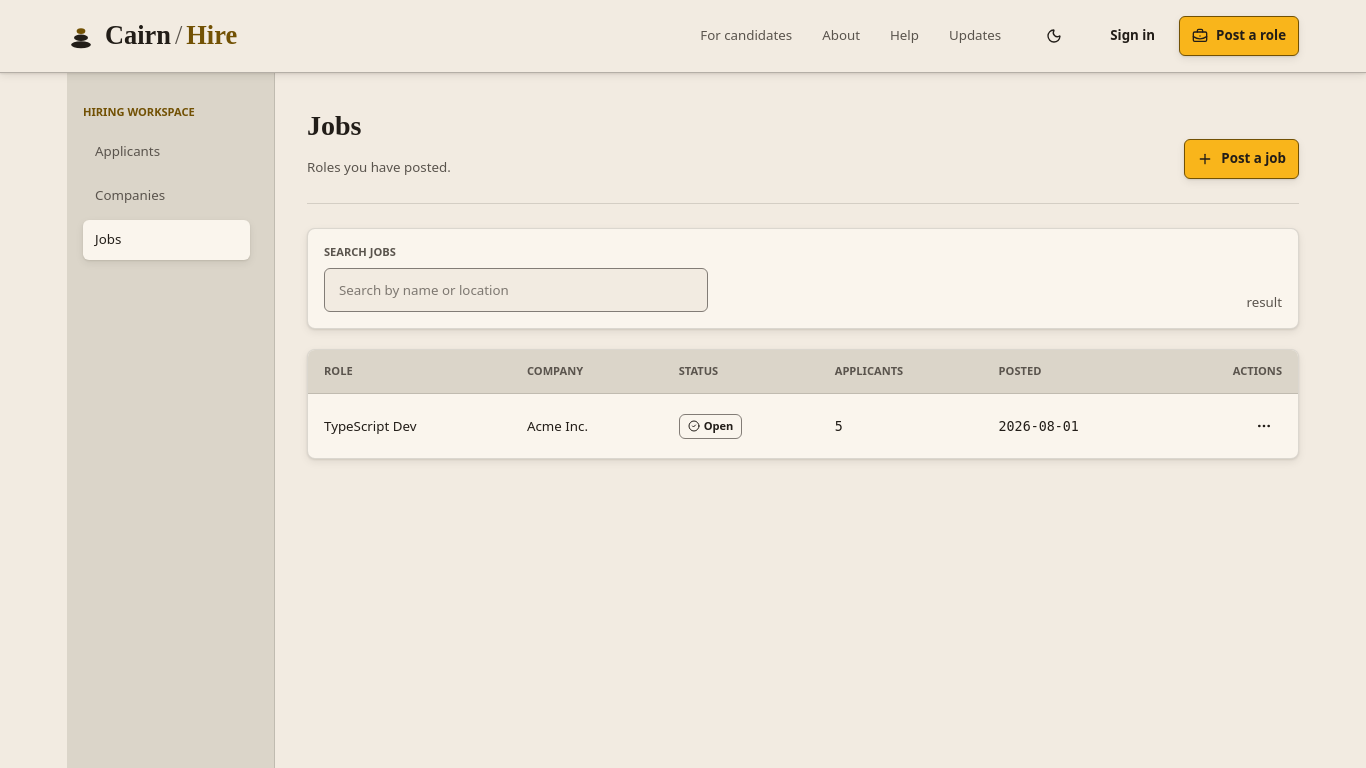
Test: the job lifecycle in the workspace › says so in the close dialog rather than only in the table
Click the button named "Actions for TypeScript Dev" at x=1264, y=426, box 1246,408 -> 1282,444
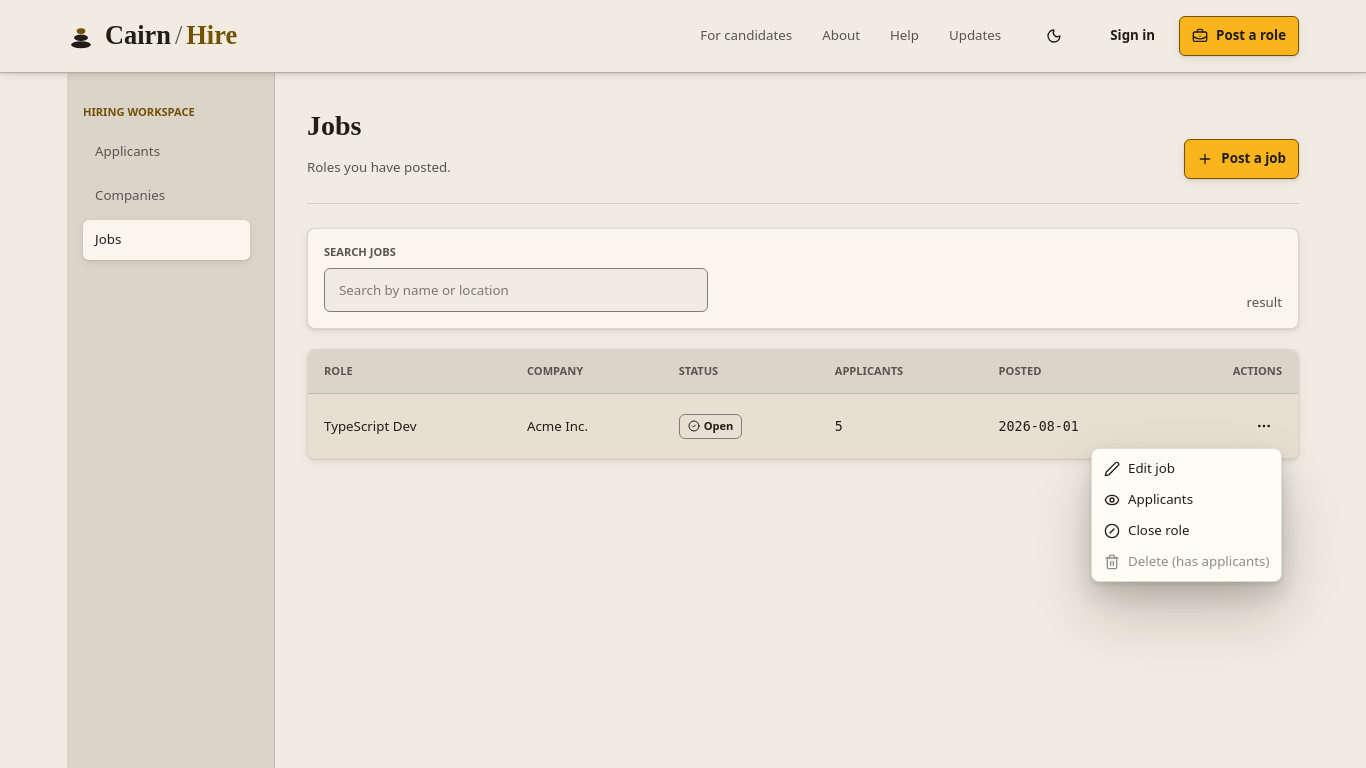
Click the menu item "Close role" at x=1147, y=530, box 1104,521 -> 1190,539
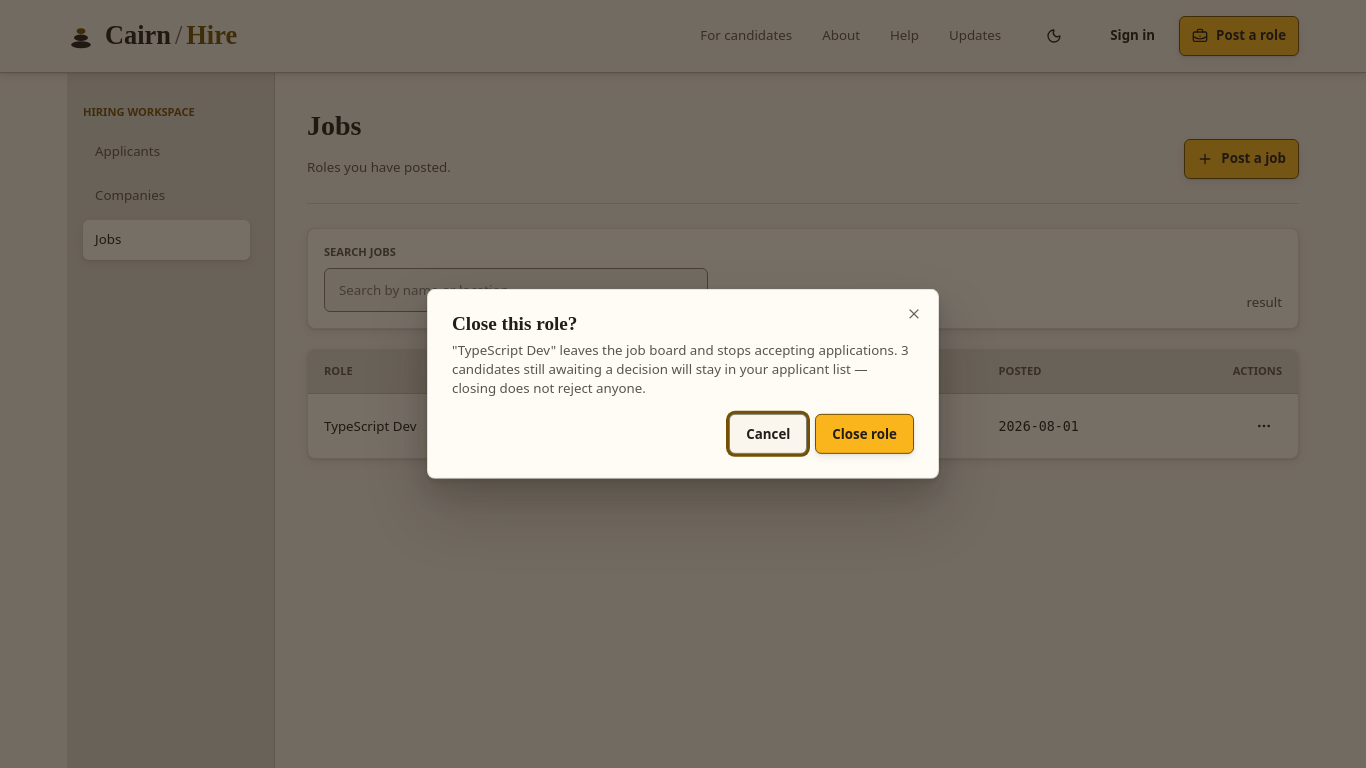
Now the dialog shows "leaves the job board", box 452,341 -> 909,397
Now the dialog shows "closing does not reject anyone", box 452,341 -> 909,397
